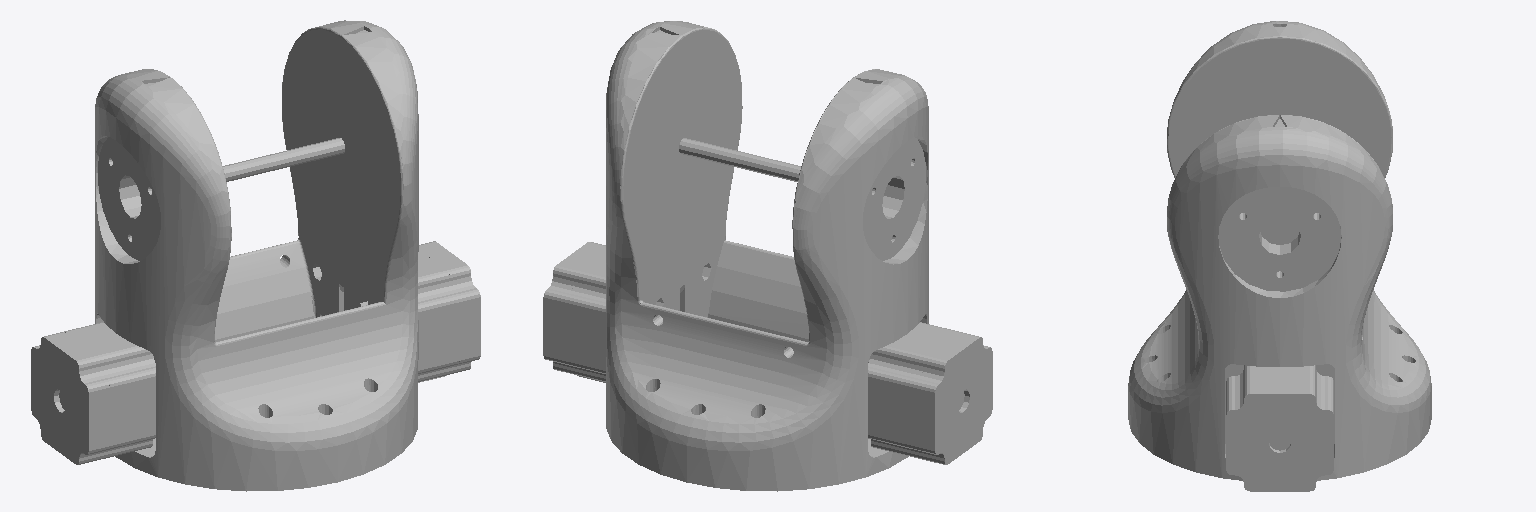
URDF robot description (moveo):
<?xml version='1.0'?>
<robot
  name="moveo">	

    <link name="world"/>
  
  <joint name="fixed" type="fixed">
    <parent link="world"/>
    <child link="base_link"/>
  </joint>
  
  <!-- BASE LINK -->
  <link
    name="base_link">
   
    <inertial>
      <origin
        xyz="0.005 0.065 0.003"
        rpy="0 0 0" />
      <mass
        value="5.0" />
      <inertia
        ixx="0.142"
	ixy="0.002"
	ixz="1.0E-09"
	iyy="0.139"
	iyz="0.004"
	izz="0.273"/>
        
    </inertial>
    
    <visual>
      <origin
        xyz="0 0 0"
        rpy="0 0 0" />
      <geometry>
        <mesh
          filename="package://iteration_3/meshes/base_link.stl" />
      </geometry>
      <material
        name="">
        <color
          rgba="0.75294 0.75294 0.75294 1" />
      </material>
    </visual>
    
    <collision>
      <origin
        xyz="0 0 0"
        rpy="0 0 0" />
      <geometry>
        <mesh
          filename="package://iteration_3/meshes/base_link.stl" />
      </geometry>
    </collision>
  </link>
  



  <!--   LINK 1   -->

  <link
    name="Link_1">
    <inertial>
      <origin
        xyz="-1.184E-05 -8.007E-06 0.161"
        rpy="0 0 0" />
      <mass
        value="3" />
      <inertia
        ixx="0.007"
	ixy="4.973E-09"
	ixz="1.485E-06"
	iyy="0.011"
	iyz="1.0E-09"
	izz="0.008" />
    </inertial>
    
    <visual>
      <origin
        xyz="0 0 0"
        rpy="0 0 0" />
      <geometry>
        <mesh
          filename="package://iteration_3/meshes/Link_1.stl" />
      </geometry>
      <material
        name="">
        <color
          rgba="0.75294 0.75294 0.75294 1" />
      </material>
    </visual>
    
    <collision>
      <origin
        xyz="0 0 0"
        rpy="0 0 0" />
      <geometry>
        <mesh
          filename="package://iteration_3/meshes/Link_1.stl" />
      </geometry>
    </collision>
  </link>
  
  
  
  <joint
    name="Joint_1"
    type="revolute">
    <origin
      xyz="0 0 0.092"
      rpy="0 0 0" />
    <parent
      link="base_link" />
    <child
      link="Link_1" />
    <axis
      xyz="0 0 1" />
    <limit
      lower="-1.5707"
      upper="1.5707"
      effort="5.0"
      velocity="1.0" />
  </joint>
  


</robot>


  

--- Facts derived from the render (not from the file) ---
Views: 3 orthographic renders of the robot side by side, from view 1: azimuth 30°, elevation 25°; view 2: azimuth 150°, elevation 25°; view 3: azimuth 270°, elevation 25°.
Model moveo with 3 links and 2 joints (1 revolute, 1 fixed), rooted at world, posed all joints at 0.
Visible links, largest first — view 1: Link_1; view 2: Link_1; view 3: Link_1.
Boxes of the visible links, bbox=[...] form: Link_1: bbox=[31, 20, 480, 491]; Link_1: bbox=[543, 21, 992, 491]; Link_1: bbox=[1128, 21, 1431, 491].
Bounding box of the posed robot: 0.2236 × 0.16 × 0.2 m (x, y, z).
Meshes: 2 distinct files referenced, 1 mesh visuals loaded (1 binary STL); not drawn: 1 (reference not matched to a file when rendering).
